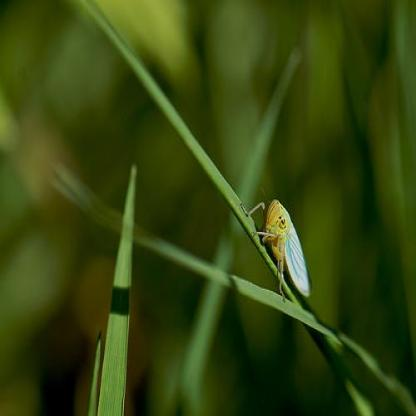Green-Leafhopper: (241, 195, 314, 312)
